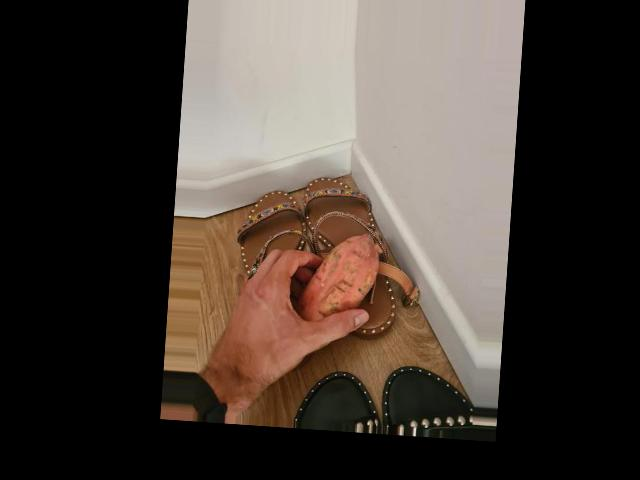sweet_potato: (298, 229, 379, 330)
